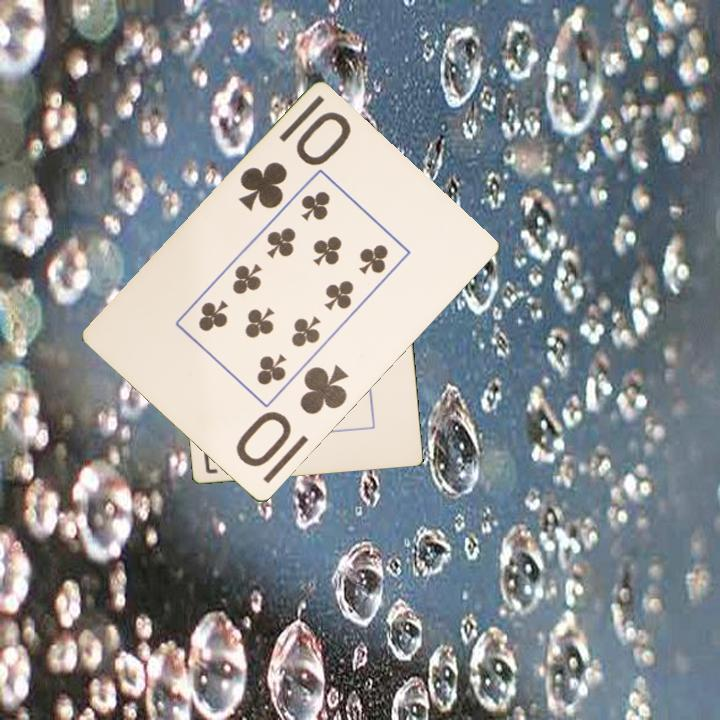10c: (232, 361, 352, 471), (234, 108, 354, 215)
